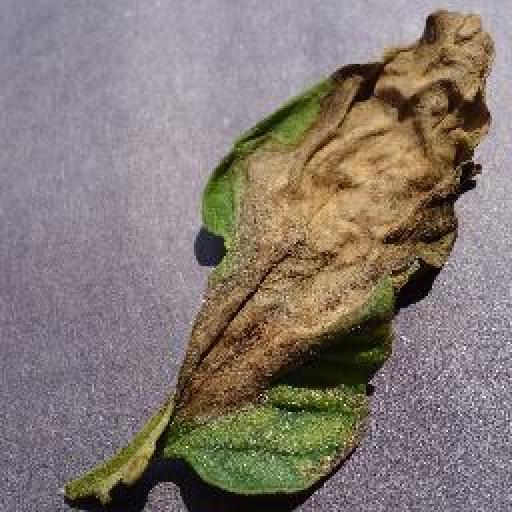Late Blight: (62, 10, 496, 512)
